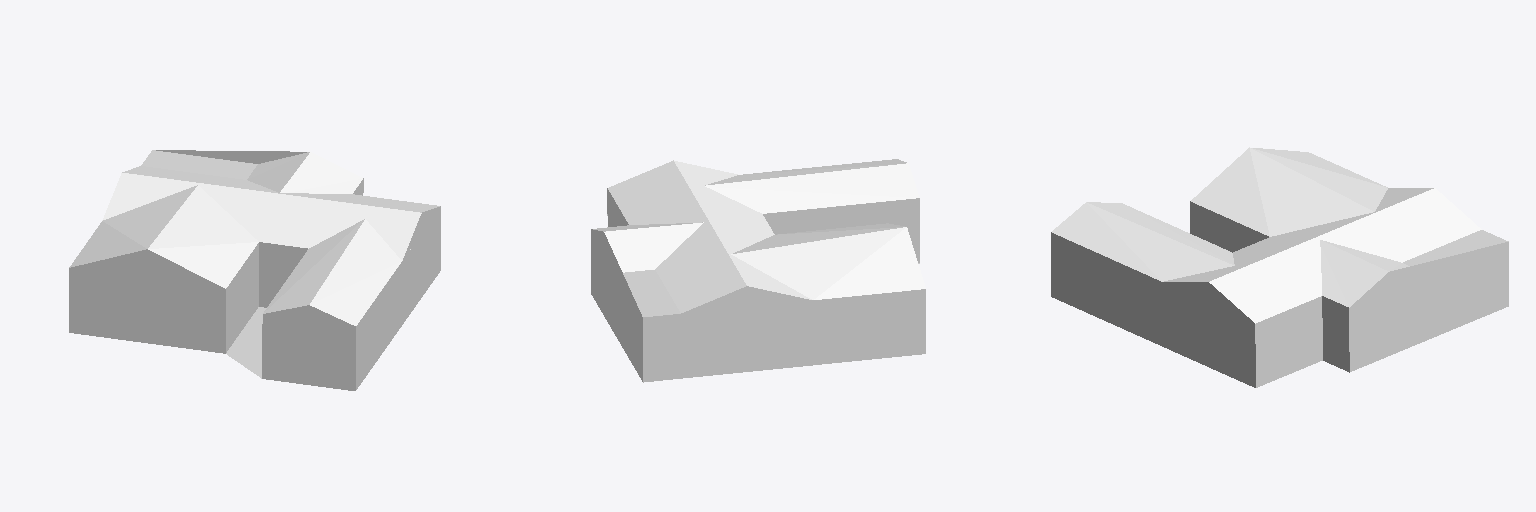
Rendered from house_Shape 227.obj.
The picture shows the model from 3 angles: view 1: azimuth 30°, elevation 25°; view 2: azimuth 150°, elevation 25°; view 3: azimuth 270°, elevation 25°; orthographic projection.
Visible parts, largest first — view 1: CityEngineMaterial, CityEngineMaterial_32, CityEngineMaterial_120, CityEngineMaterial_119; view 2: CityEngineMaterial, CityEngineMaterial_120, CityEngineMaterial_32, CityEngineMaterial_119; view 3: CityEngineMaterial, CityEngineMaterial_32, CityEngineMaterial_120, CityEngineMaterial_119.
Part boxes in pixels (bbox=[...]): CityEngineMaterial: bbox=[69, 152, 439, 325]; CityEngineMaterial_32: bbox=[69, 150, 363, 390]; CityEngineMaterial_120: bbox=[226, 206, 440, 389]; CityEngineMaterial_119: bbox=[141, 150, 266, 378]; CityEngineMaterial: bbox=[593, 159, 925, 312]; CityEngineMaterial_120: bbox=[607, 172, 925, 382]; CityEngineMaterial_32: bbox=[591, 188, 642, 381]; CityEngineMaterial_119: bbox=[623, 263, 919, 316]; CityEngineMaterial: bbox=[1052, 147, 1481, 323]; CityEngineMaterial_32: bbox=[1255, 242, 1508, 387]; CityEngineMaterial_120: bbox=[1051, 201, 1268, 387]; CityEngineMaterial_119: bbox=[1403, 230, 1508, 265].
Bounding box in the file's own units: 20.72 × 5.51 × 23.78.